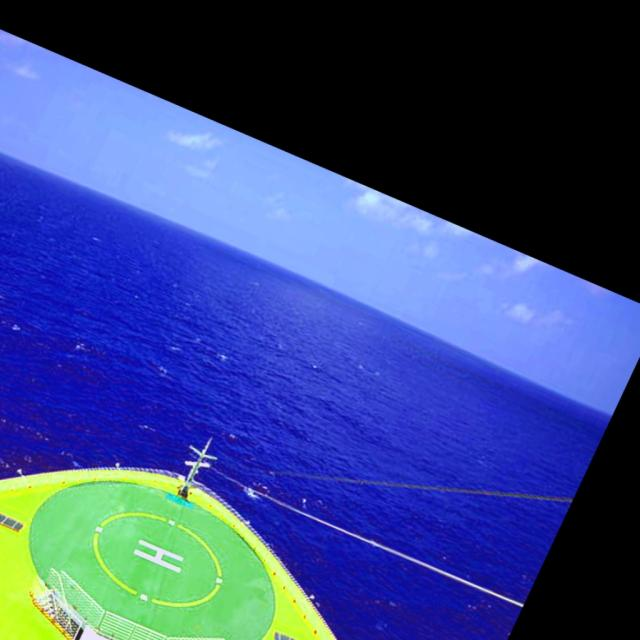helipad: (90, 509, 224, 609)
